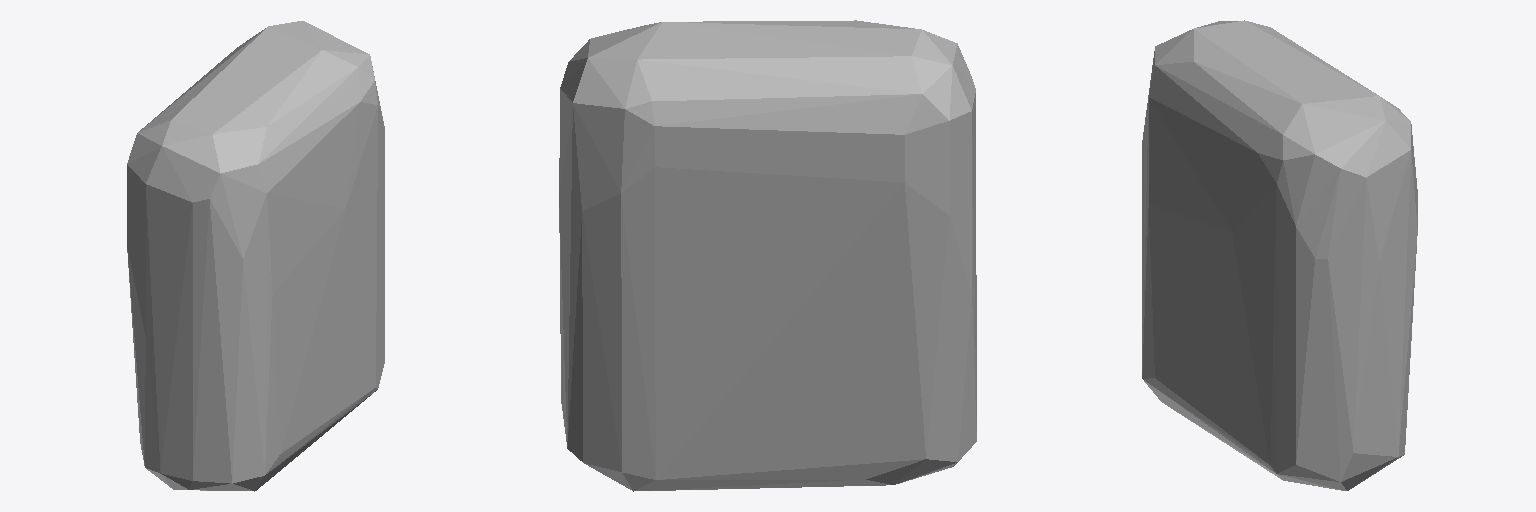
URDF robot description (root):
<robot name="root">
  <link name="link_ycb~008_pudding_box_convex_piece_0">
    <inertial>
      <origin xyz="0 0 0" rpy="0 0 0"/>
      <mass value="1.41E+00"/>
      <inertia ixx="1.75E-03" ixy="-3.49E-04" ixz="6.81E-06" iyy="2.06E-03" iyz="-3.96E-05" izz="1.17E-03"/>
    </inertial>
    <visual>
      <origin xyz="0 0 0" rpy="0 0 0"/>
      <geometry>
        <mesh filename="ycb~008_pudding_box_convex_piece_0.obj" scale="1.0000E+00 1.0000E+00 1.0000E+00"/>
      </geometry>
      <material name="">
        <color rgba="7.50E-01 7.50E-01 7.50E-01 1"/>
      </material>
    </visual>
    <collision>
      <origin xyz="0 0 0" rpy="0 0 0"/>
      <geometry>
        <mesh filename="ycb~008_pudding_box_convex_piece_0.obj" scale="1.0000E+00 1.0000E+00 1.0000E+00"/>
      </geometry>
    </collision>
  </link>
</robot>

--- Facts derived from the render (not from the file) ---
Views: 3 orthographic renders of the robot side by side, from view 1: azimuth 30°, elevation 25°; view 2: azimuth 150°, elevation 25°; view 3: azimuth 270°, elevation 25°.
Robot: root — 1 links, 0 joints (none); root link link_ycb~008_pudding_box_convex_piece_0; default pose: every joint at zero.
Links seen in each view (by area): view 1: link_ycb~008_pudding_box_convex_piece_0; view 2: link_ycb~008_pudding_box_convex_piece_0; view 3: link_ycb~008_pudding_box_convex_piece_0.
Link boxes in pixels (x1,y1,x2,y2): link_ycb~008_pudding_box_convex_piece_0: (127, 21, 384, 491); link_ycb~008_pudding_box_convex_piece_0: (559, 20, 976, 491); link_ycb~008_pudding_box_convex_piece_0: (1142, 20, 1417, 490).
Size in the robot's own frame: 0.0923 by 0.0764 by 0.1119 metres.
1 mesh visuals loaded from 1 distinct referenced files (1 OBJ).